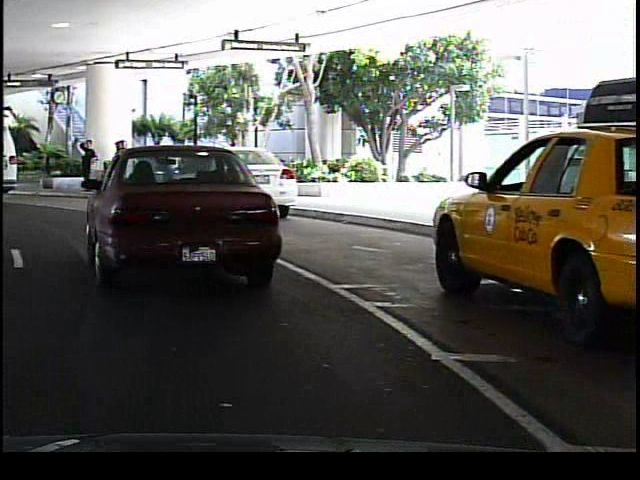person: (156, 144, 184, 195), (71, 138, 95, 195), (108, 139, 130, 192)
